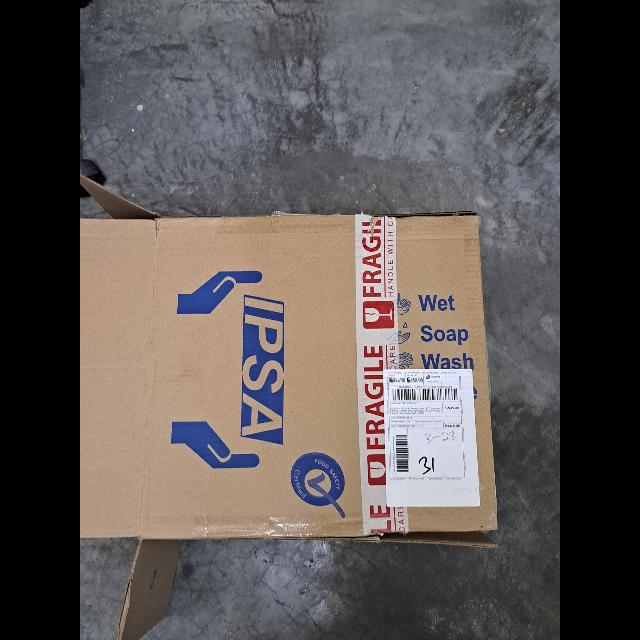papelão: (80, 176, 516, 640)
